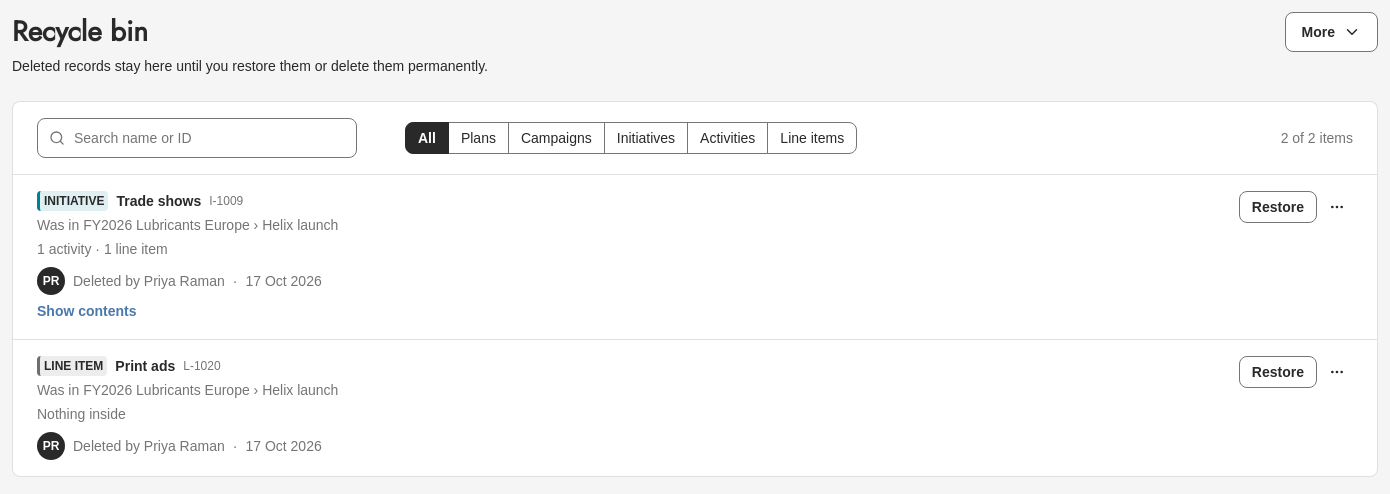
Test case: RecycleBinPage › shows the header with the count and Empty recycle bin in More, and every row (FR-014, FR-015)
expect the heading "Recycle bin" is shown: met, box [12,12,148,52]
expect the text "2 of 2 items" is shown: met, box [1281,128,1353,148]
Destructive and rare: a menu item, never a red button on the page (design system §5.1).
Click the button "More" at (1331, 32), box [1284,12,1378,52]
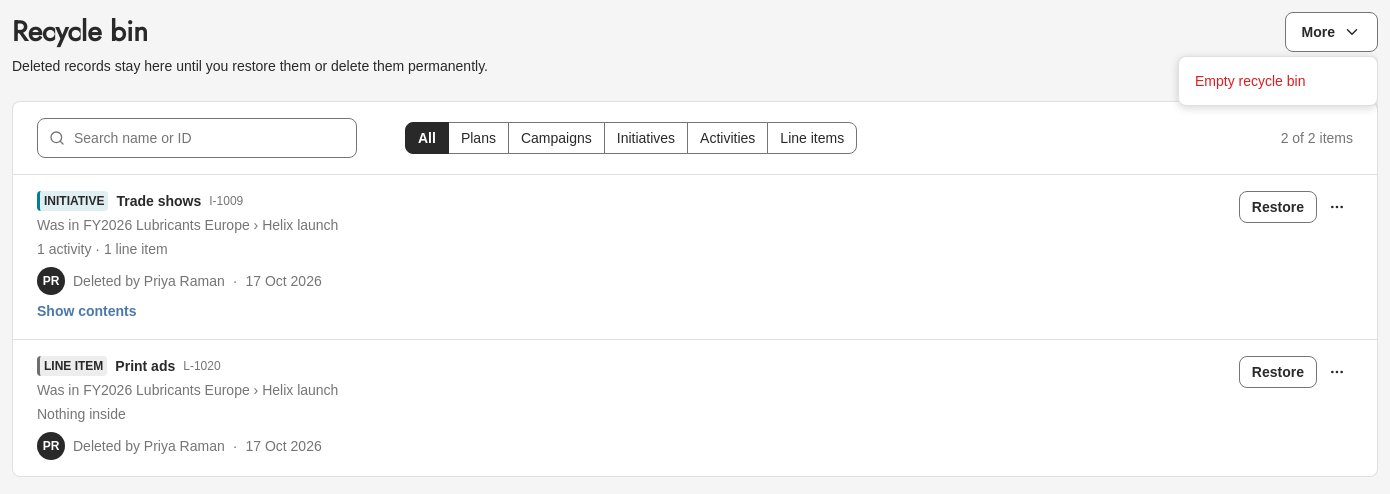
expect the menu item "Empty recycle bin" is shown: met, box [1195,73,1306,89]
